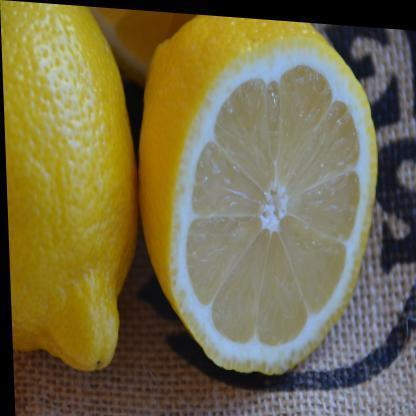lemon: (138, 14, 378, 376), (2, 0, 137, 371)
